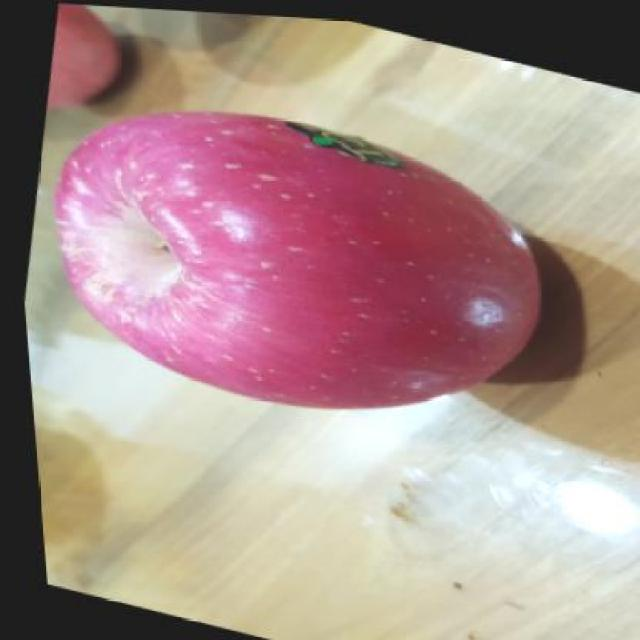Fresh Apple: (39, 96, 549, 422)
